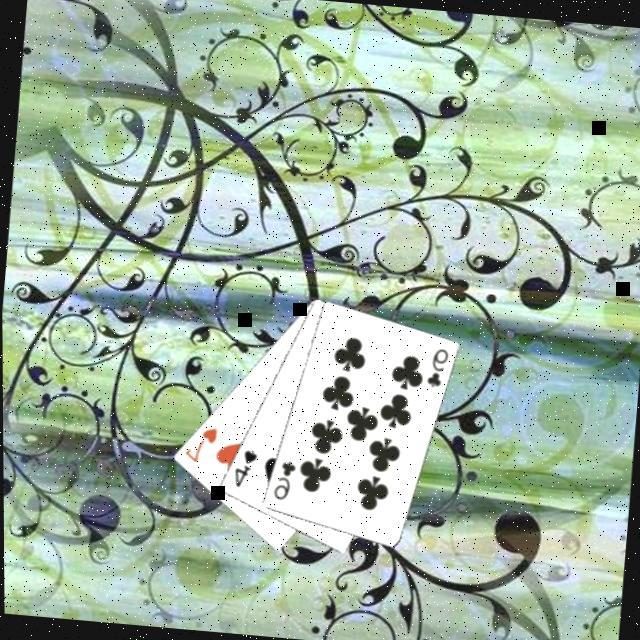4S: (230, 446, 260, 493)
7H: (179, 422, 221, 468)
9C: (270, 457, 300, 505), (423, 345, 452, 393)
